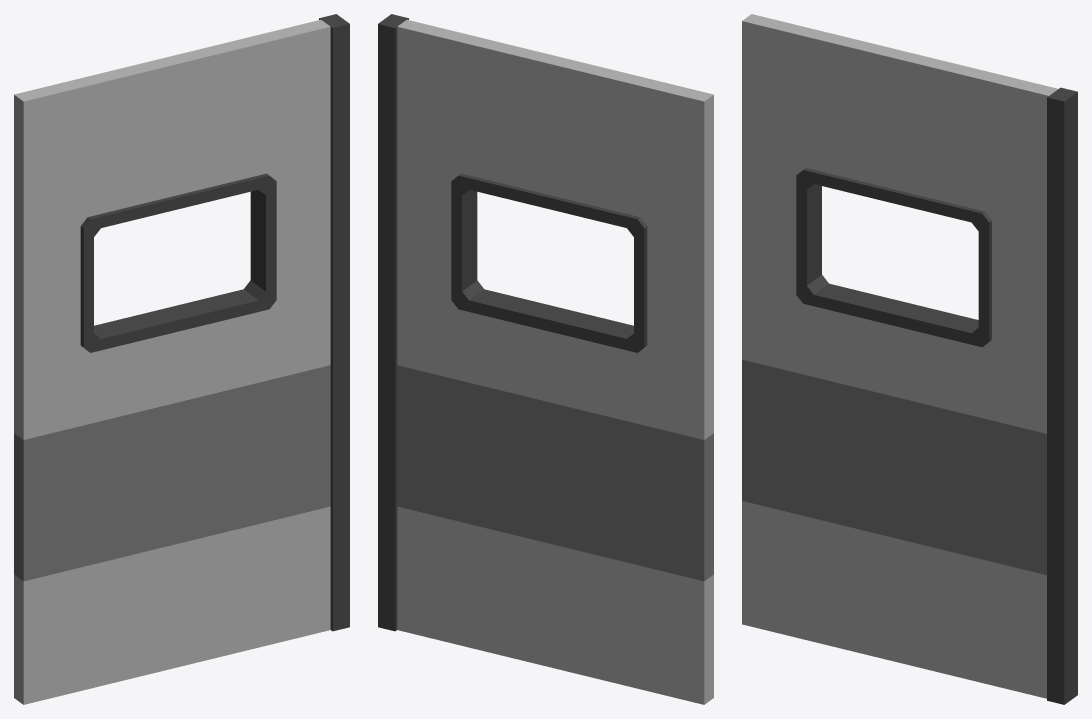
The model's file is SM_Buildings_Door_02.fbx.
3 views of the same model, side by side, from view 1: azimuth 30°, elevation 25°; view 2: azimuth 150°, elevation 25°; view 3: azimuth 330°, elevation 25° (orthographic).
Visible parts, largest first — view 1: SM_Buildings_Door_02; view 2: SM_Buildings_Door_02; view 3: SM_Buildings_Door_02.
Part boxes in pixels (left/top/right/bottom): SM_Buildings_Door_02: left=14, top=14, right=349, bottom=704; SM_Buildings_Door_02: left=378, top=14, right=713, bottom=704; SM_Buildings_Door_02: left=742, top=14, right=1077, bottom=704.
Bounding box in the file's own units: 124 × 220 × 10.11.
